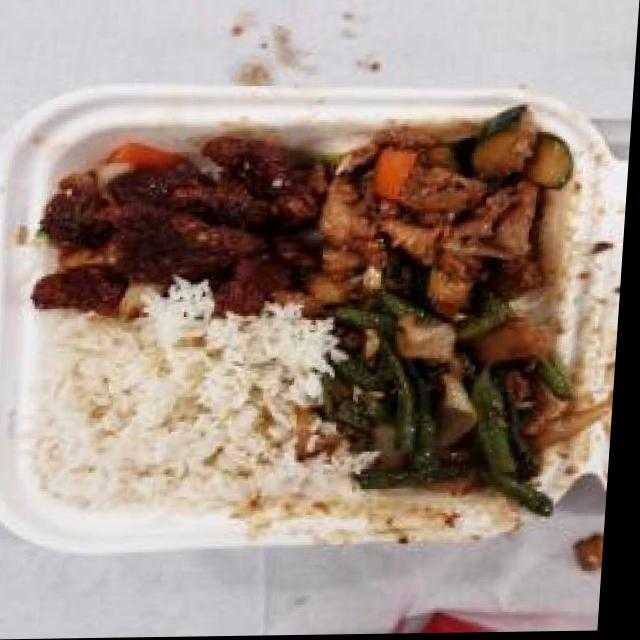Beijing Beef: (34, 121, 331, 312)
Kung Pao Chicken: (311, 110, 587, 311)
String Bean Chicken Breast: (322, 298, 584, 521)
White Steamed Rice: (36, 311, 316, 519)
